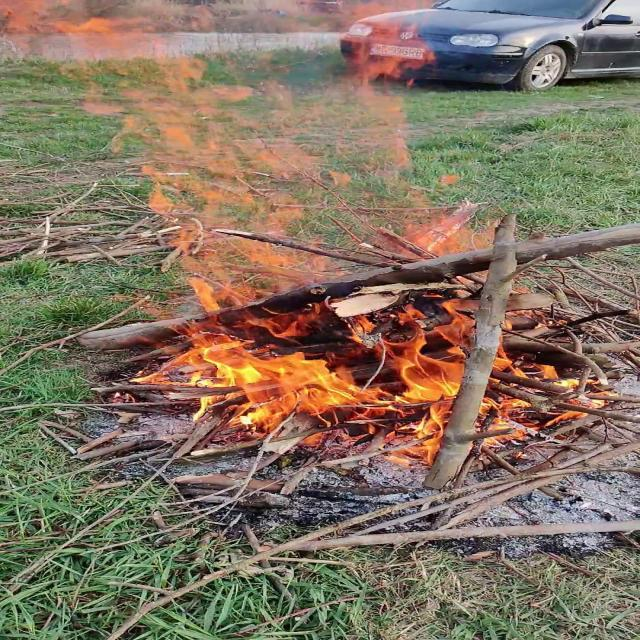Fire: (22, 17, 614, 452)
